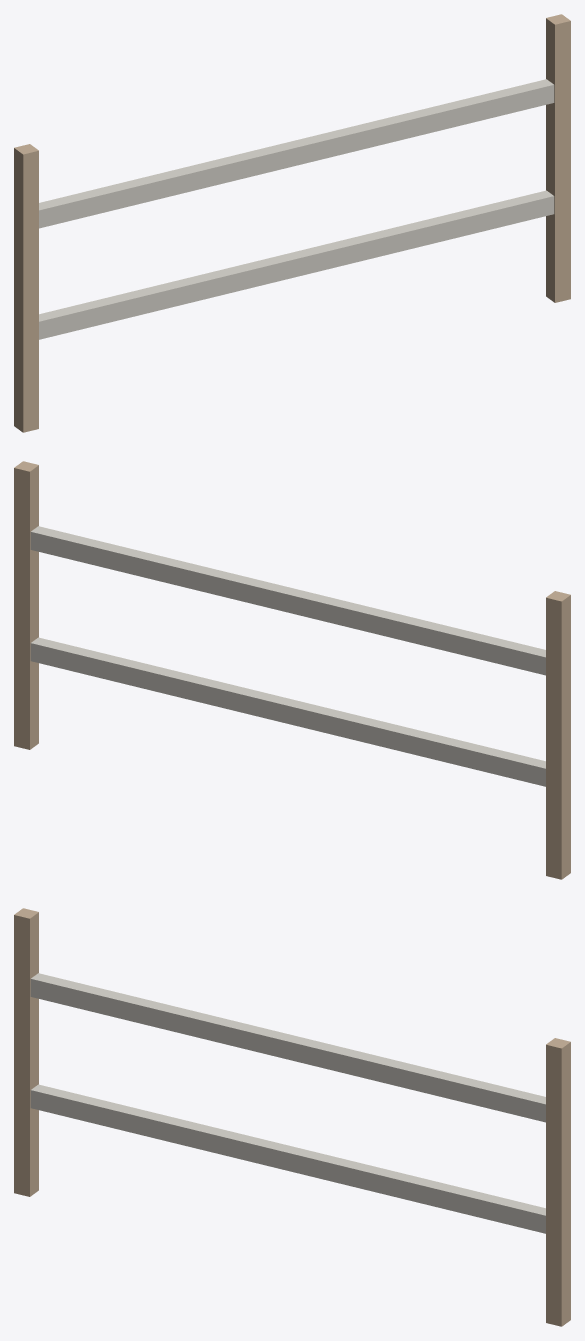
The model's file is fence_section.glb.
The picture shows the model from 3 angles, top to bottom: view 1: azimuth 30°, elevation 25°; view 2: azimuth 150°, elevation 25°; view 3: azimuth 330°, elevation 25°; orthographic projection.
Visible parts, largest first — view 1: fence_section__rail.001, fence_section__rail, fence_section__post, fence_section__post.001; view 2: fence_section__rail.001, fence_section__rail, fence_section__post, fence_section__post.001; view 3: fence_section__rail.001, fence_section__rail, fence_section__post.001, fence_section__post.
Part boxes in pixels (x1=…): fence_section__rail.001: x1=39, y1=79, x2=554, y2=228; fence_section__rail: x1=39, y1=190, x2=554, y2=339; fence_section__post: x1=14, y1=144, x2=38, y2=432; fence_section__post.001: x1=546, y1=14, x2=570, y2=302; fence_section__rail.001: x1=30, y1=526, x2=545, y2=675; fence_section__rail: x1=30, y1=637, x2=545, y2=786; fence_section__post: x1=546, y1=591, x2=570, y2=879; fence_section__post.001: x1=14, y1=461, x2=38, y2=749; fence_section__rail.001: x1=30, y1=973, x2=545, y2=1122; fence_section__rail: x1=30, y1=1084, x2=545, y2=1233; fence_section__post.001: x1=546, y1=1038, x2=570, y2=1326; fence_section__post: x1=14, y1=908, x2=38, y2=1196.
Bounding box in the file's own units: 4.12 × 2 × 0.12.
